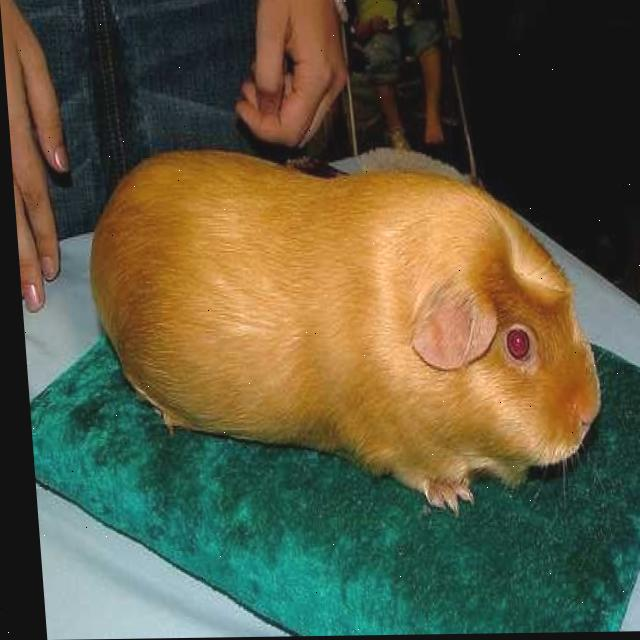guinea pig: (80, 146, 602, 510)
